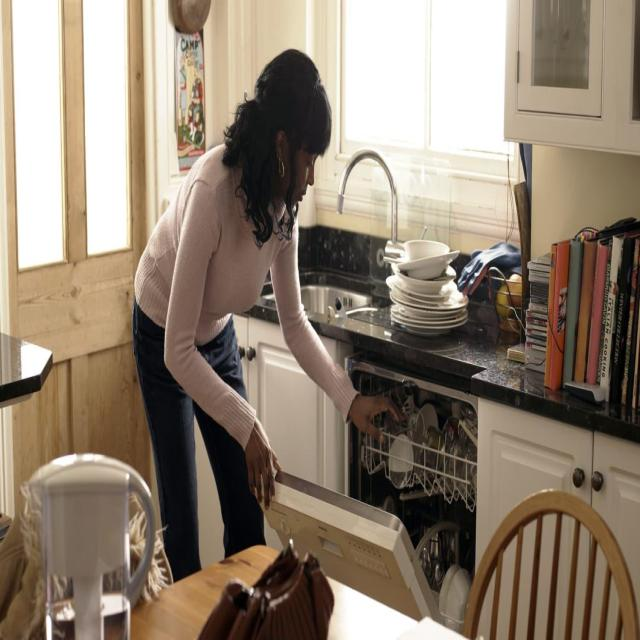dishwasher: (263, 364, 492, 631)
